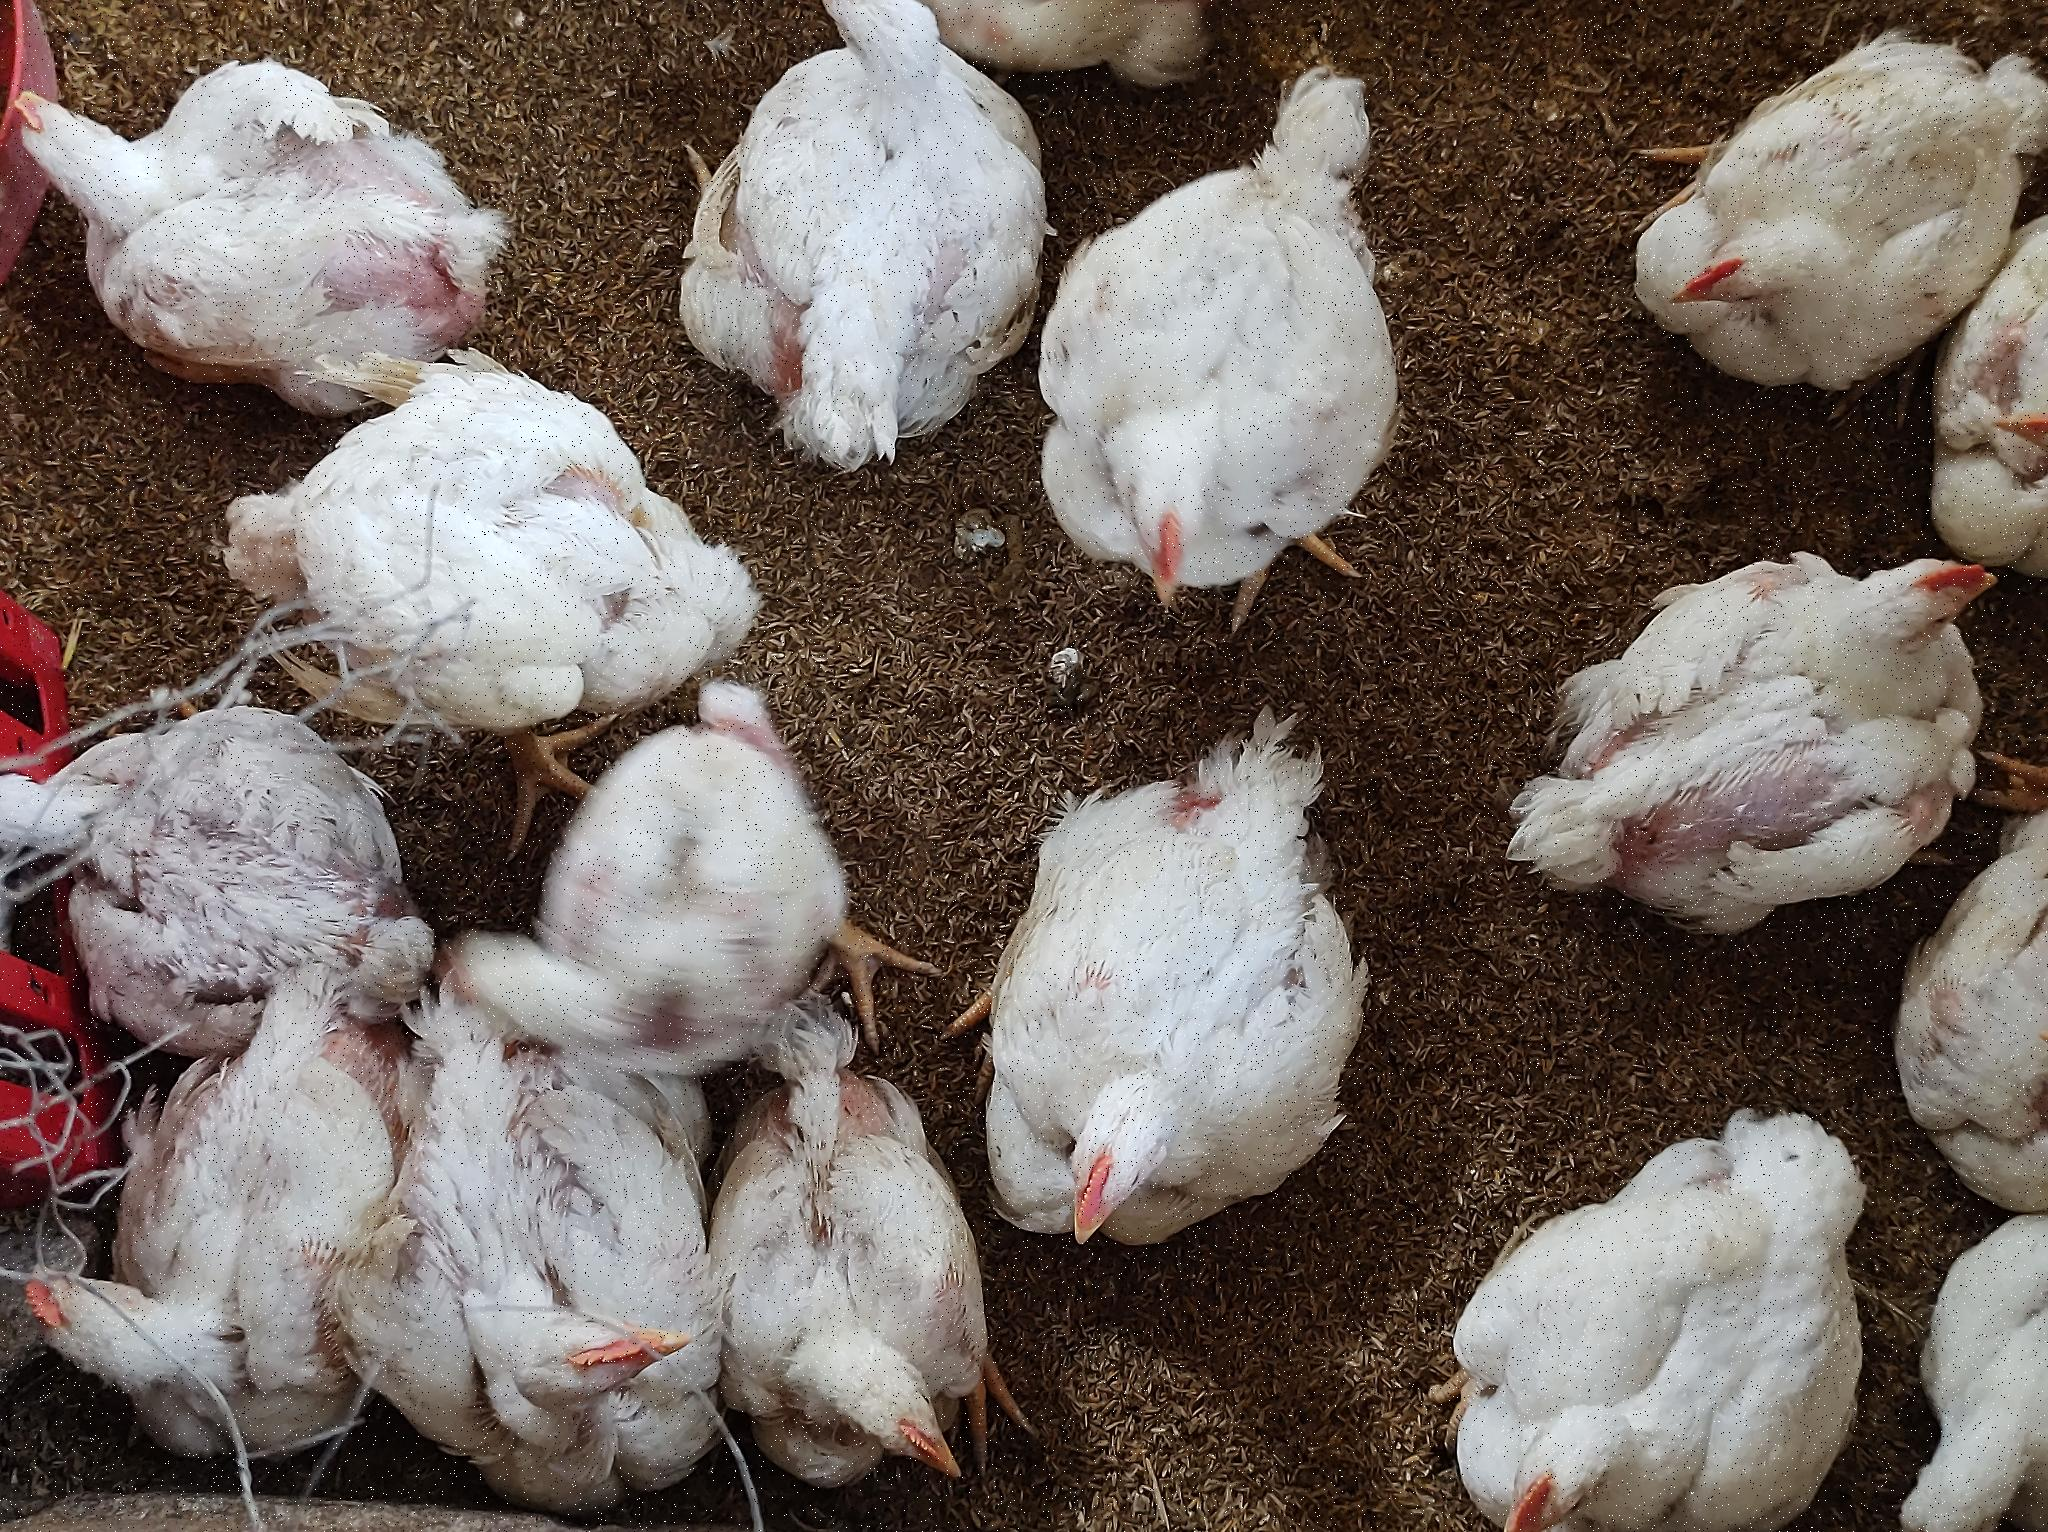Pollos: (209, 364, 780, 756), (1055, 72, 1458, 623), (1525, 521, 2005, 935), (454, 682, 927, 1080), (994, 750, 1359, 1263), (367, 1059, 766, 1509), (27, 1033, 402, 1493), (1453, 1107, 1855, 1532), (6, 35, 504, 377), (693, 3, 1043, 475), (719, 1070, 1041, 1522), (3, 697, 402, 1032), (1617, 26, 1985, 385), (1882, 1194, 2048, 1532), (1916, 801, 2048, 1213), (1923, 203, 2048, 607)
